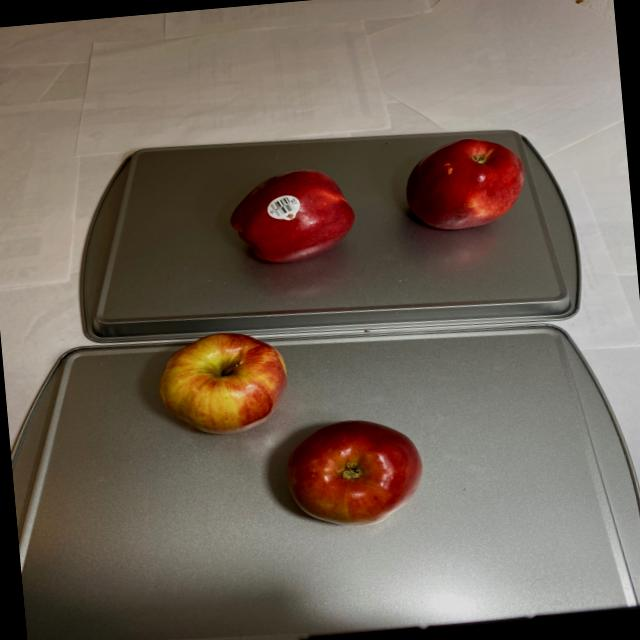apple: (149, 316, 433, 544), (218, 132, 538, 274)
